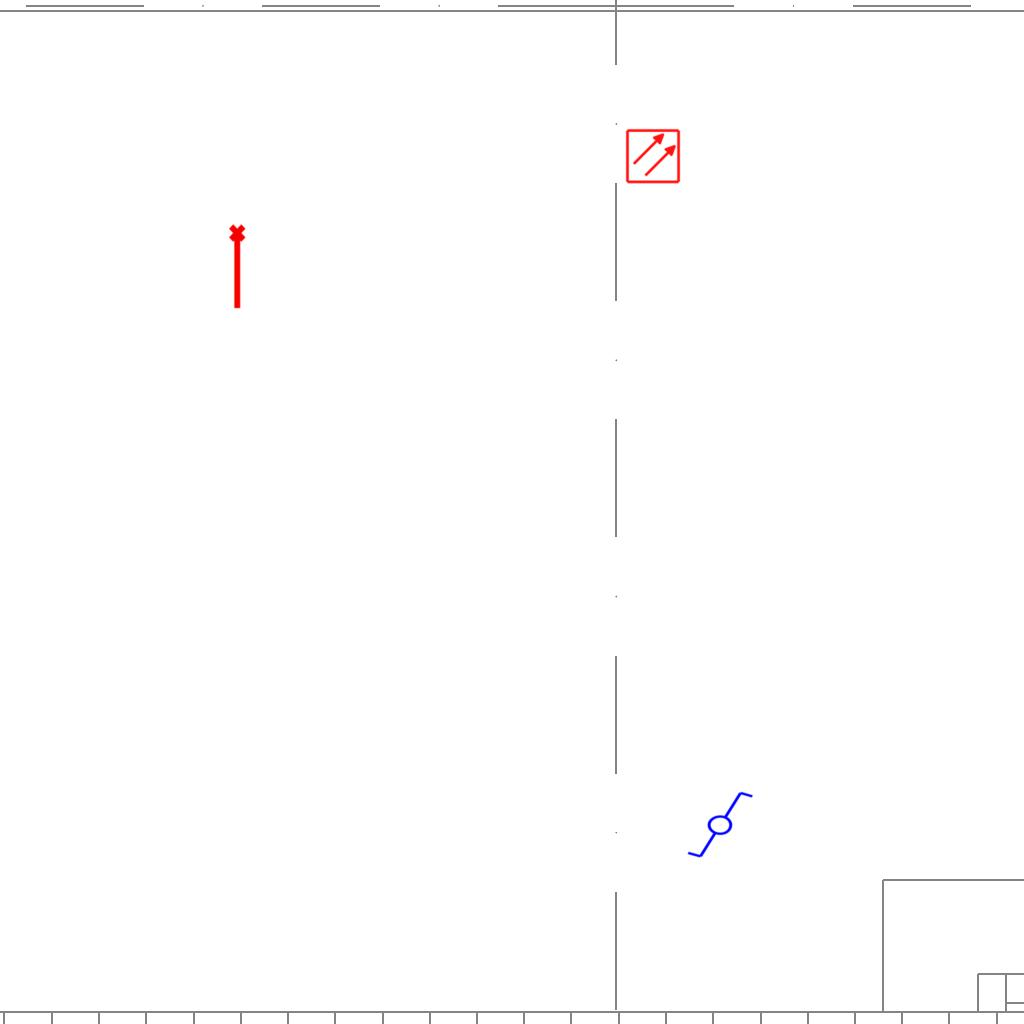ASR_Ansaugoeffnung: (227, 223, 250, 311)
RMO_Rauchmelder_optischer: (625, 128, 681, 184)
Wechselschalter: (677, 788, 755, 860)
